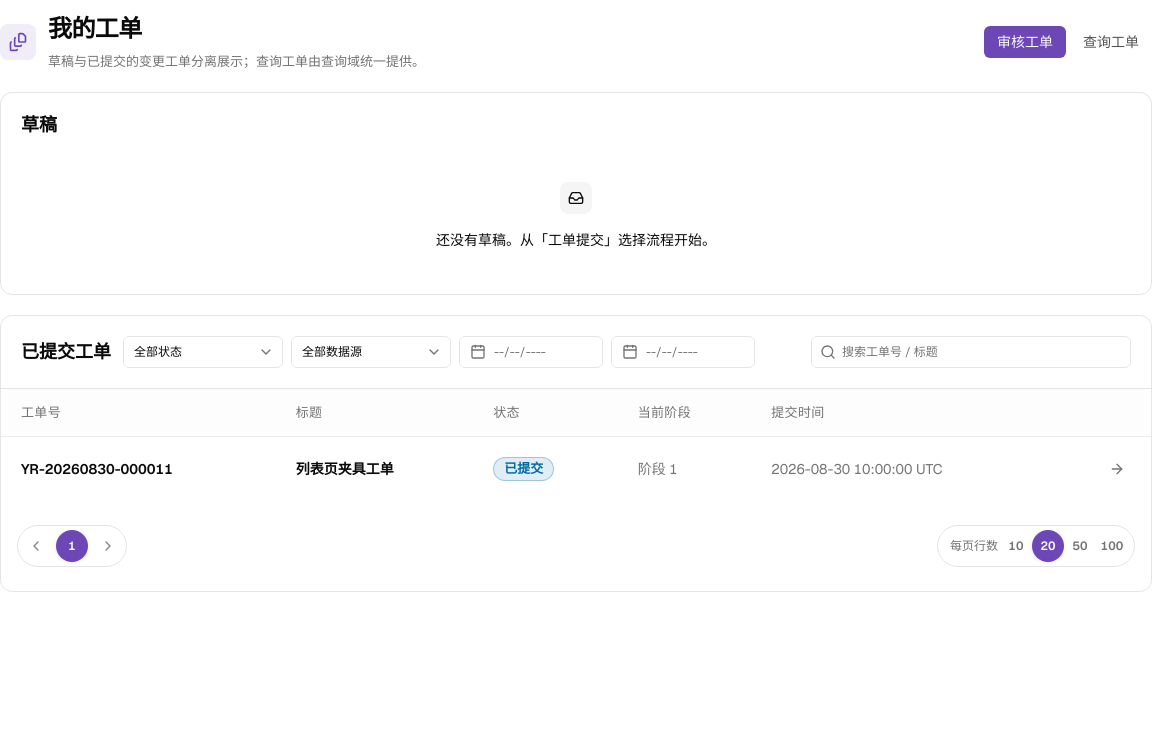
Test: MinePage › filters server-side via the keyword and distinguishes the empty state
Check: the table with test id "mine-orders-table" is shown, box [1,389,1151,501]
Type "不存在的关键字" into the field with test id "filter-keyword".
click(983, 352); type("不存在的关键字")  # box [836,336,1130,368]
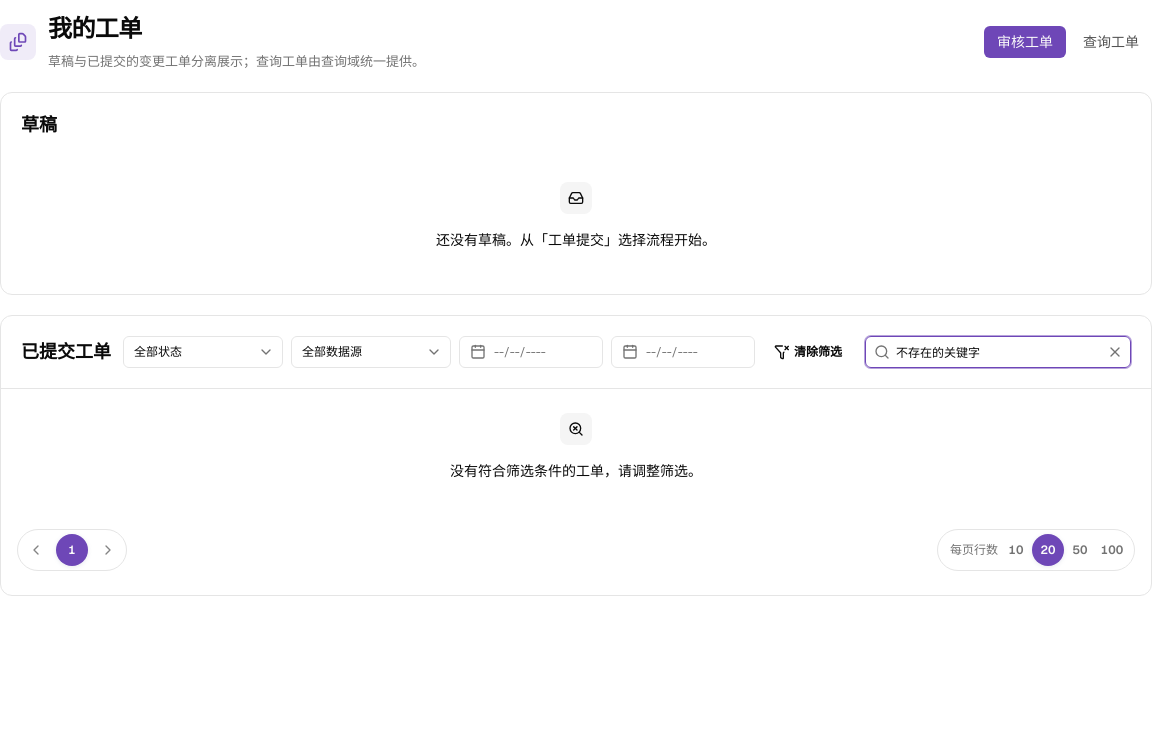
Check: the element with test id "orders-empty" shows "没有符合筛选条件的工单", box [450,462,702,480]
Check: the table with test id "mine-orders-table" is gone
# Clearing the keyword restores the row.
Clear the field with test id "filter-keyword" at (996, 352), box [890,336,1103,368]
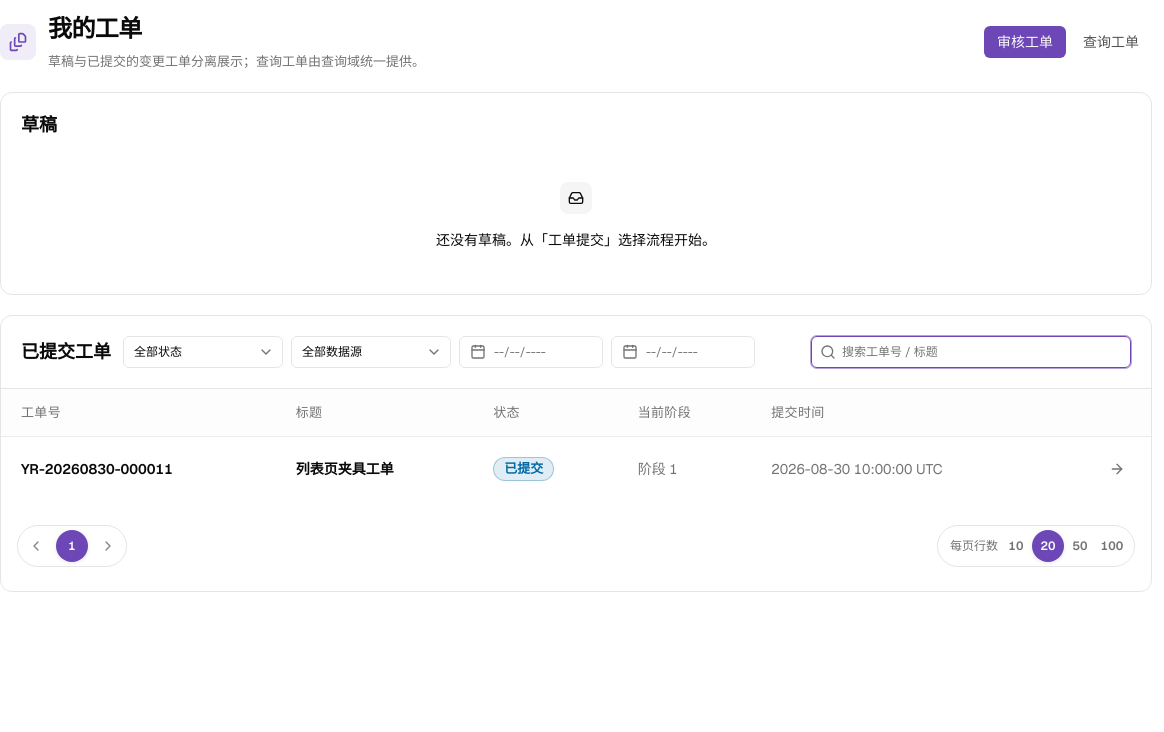
Check: the table with test id "mine-orders-table" is shown, box [1,389,1151,501]
